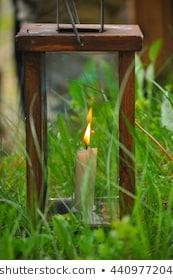fire: (81, 107, 95, 146)
